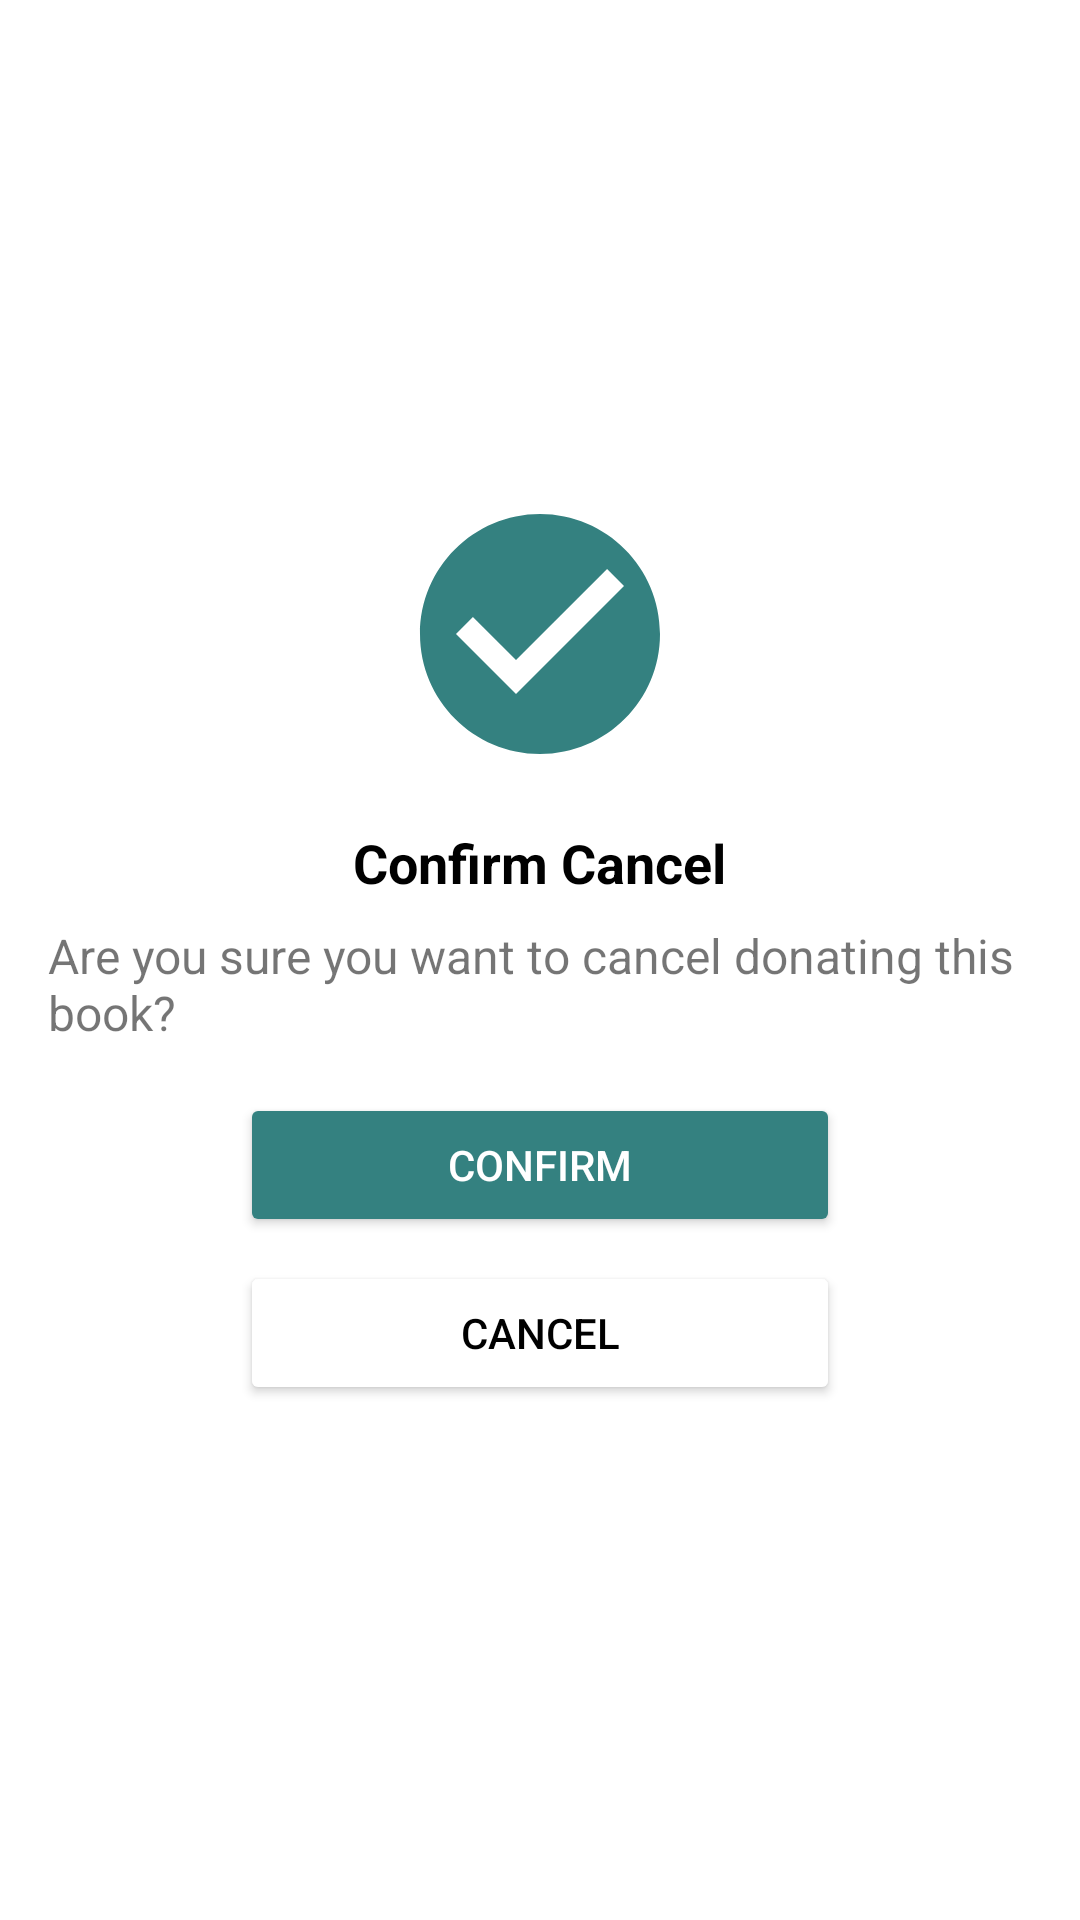

Where icons sit on this 1080 x 1920 app screen, as [x1,y1,x2,y2]:
check circle: [420,514,660,754]
